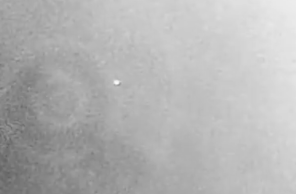Target: (115, 81, 119, 84)
